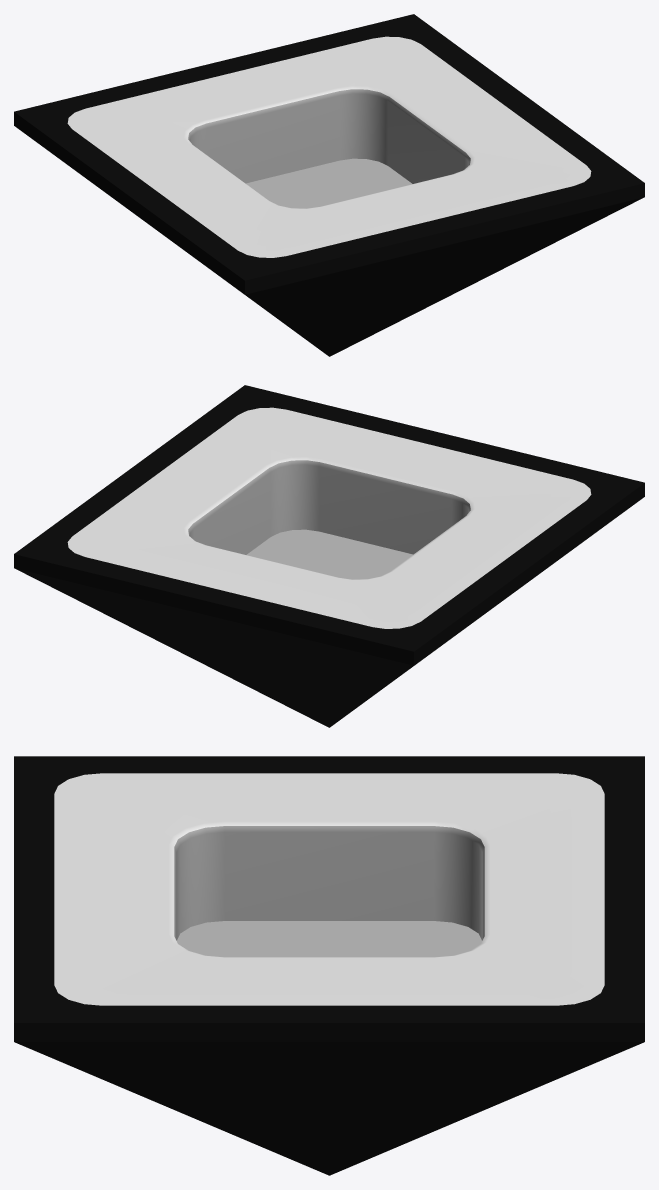
The model's file is Cell White.fbx.
The picture shows the model from 3 angles, top to bottom: view 1: azimuth 30°, elevation 25°; view 2: azimuth 150°, elevation 25°; view 3: azimuth 270°, elevation 25°; orthographic projection. The views are drawn at different scales.
Visible parts, largest first — view 1: Cell_White; view 2: Cell_White; view 3: Cell_White.
Boxes of the visible parts, <box> form: Cell_White: <box>14,14,644,356</box>; Cell_White: <box>14,385,644,727</box>; Cell_White: <box>14,756,644,1175</box>.
Bounding box in the file's own units: 100 × 50.06 × 100.
